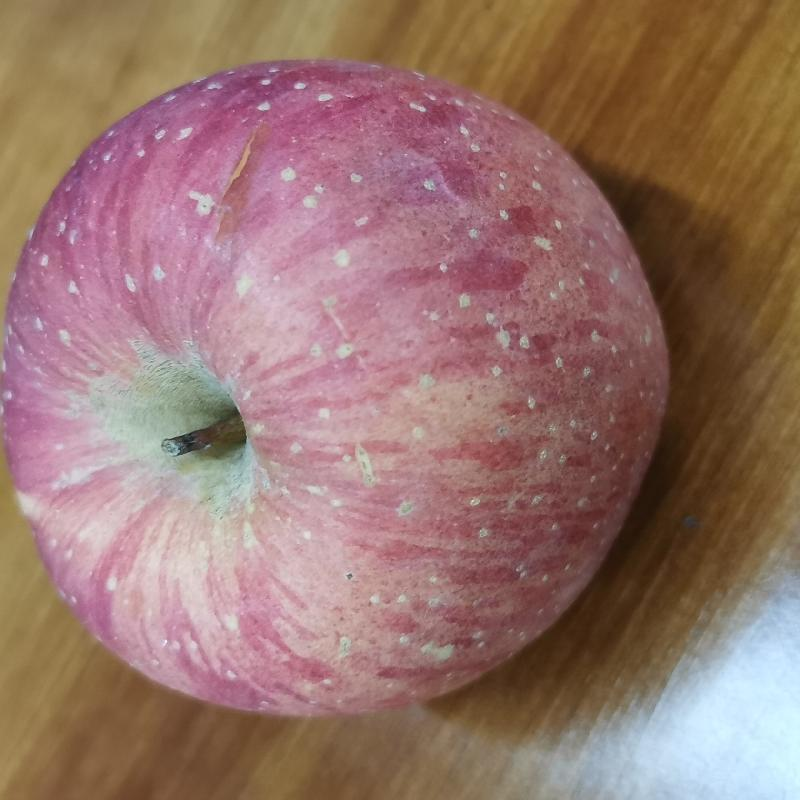apples: (1, 55, 670, 717)
